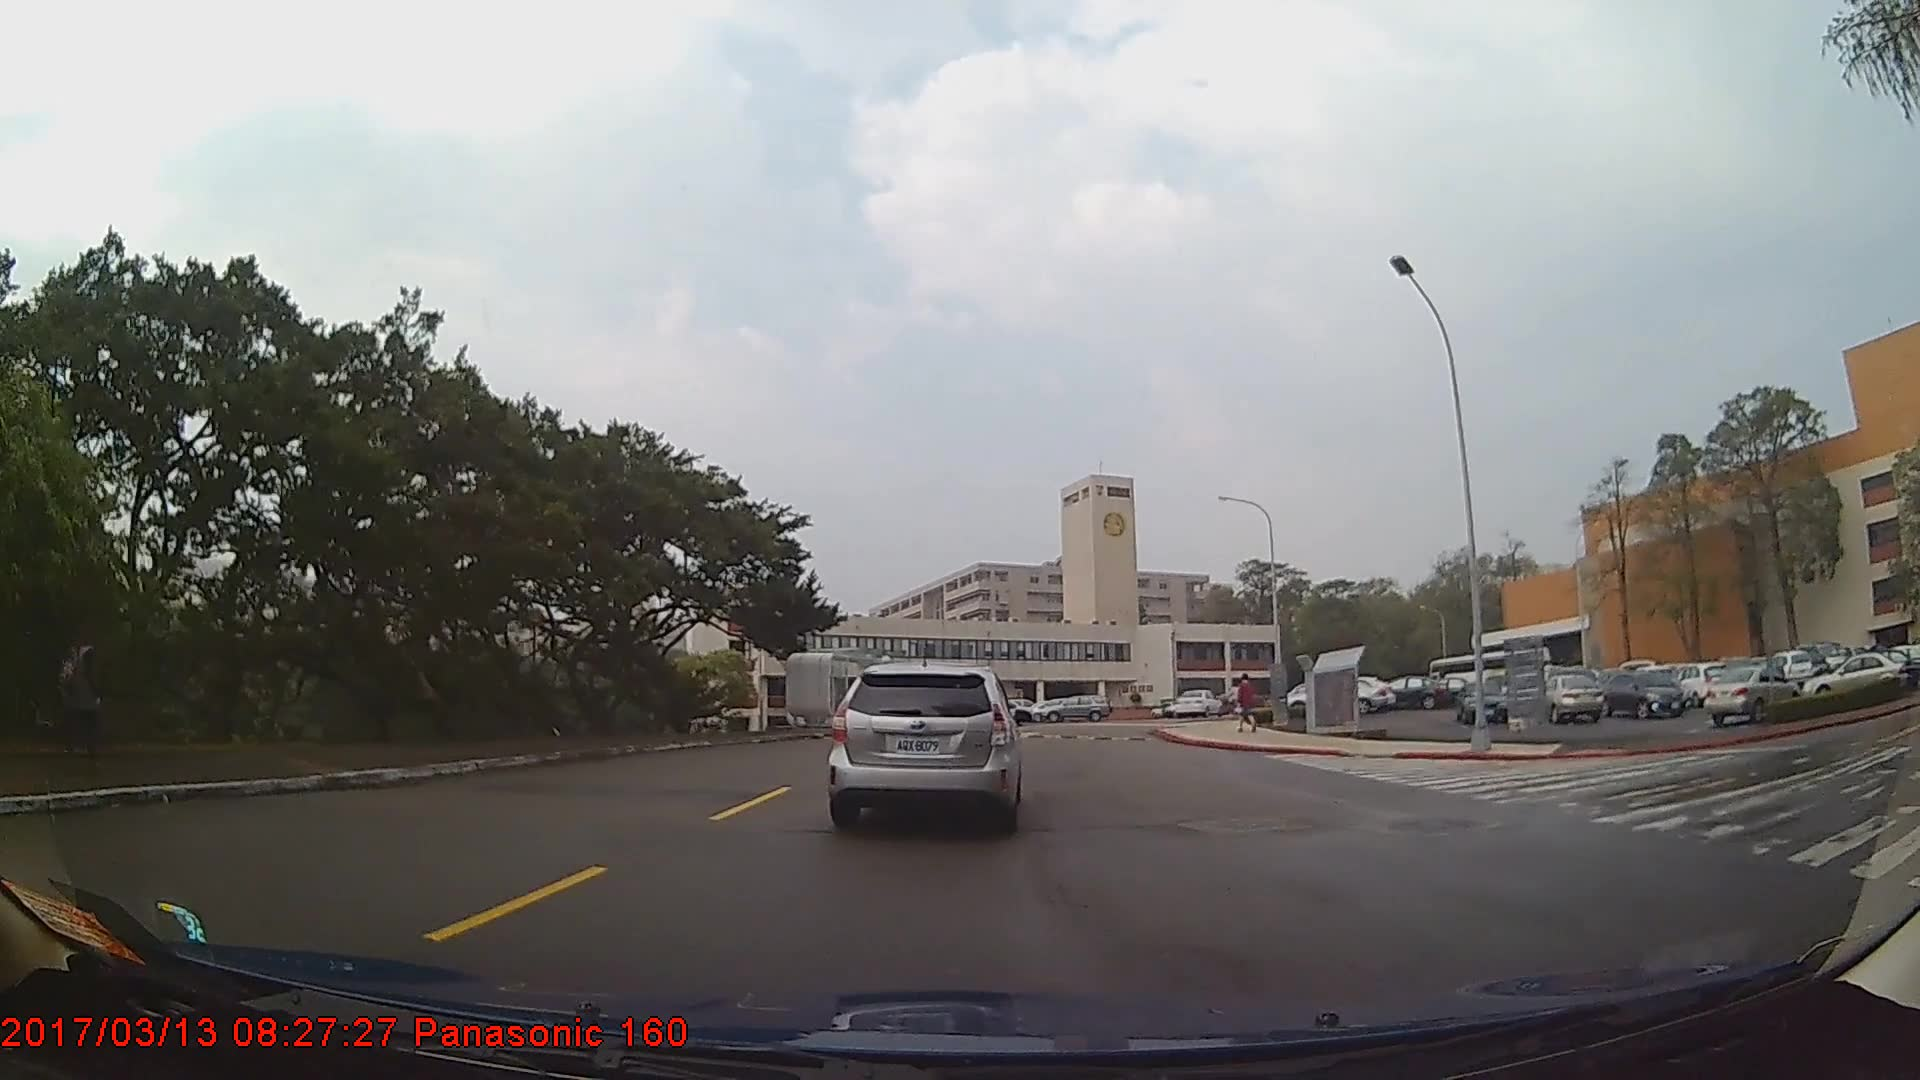pedestrian: (51, 626, 110, 762), (1235, 674, 1258, 735)
vehicle: (830, 658, 1021, 830), (1705, 663, 1798, 725), (1801, 651, 1904, 700), (1599, 669, 1685, 718), (1537, 672, 1605, 725), (1455, 681, 1511, 725), (1375, 676, 1449, 711), (1034, 695, 1110, 723), (1171, 688, 1222, 718)
